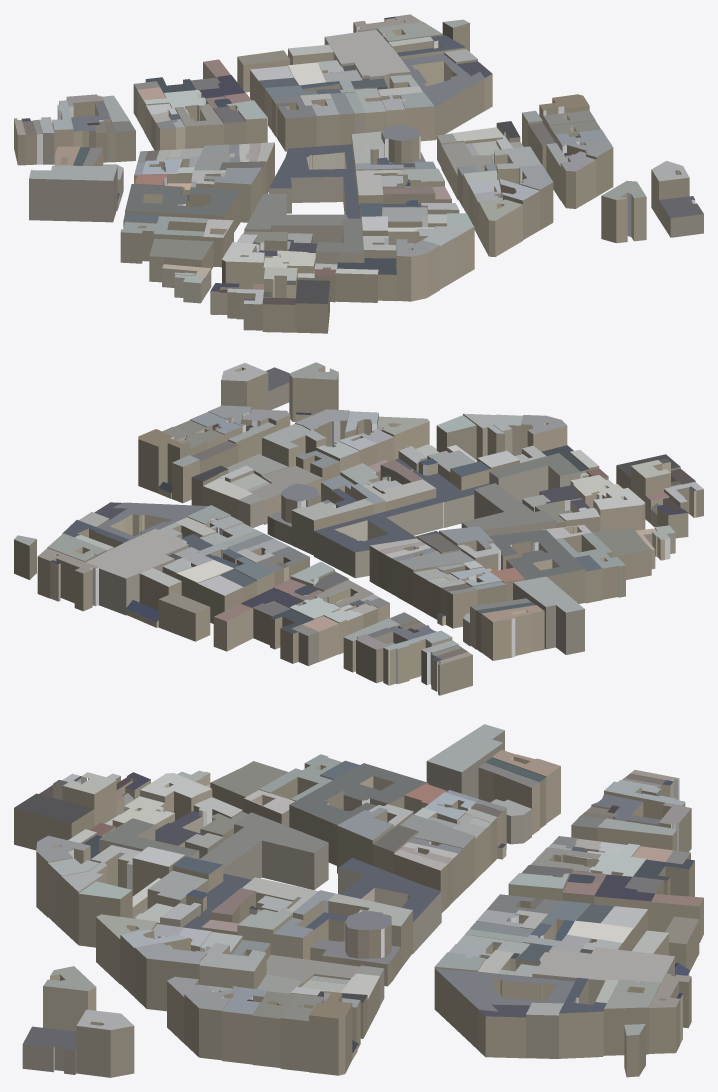
3 renders of one model, top to bottom at view 1: azimuth 30°, elevation 25°; view 2: azimuth 150°, elevation 25°; view 3: azimuth 270°, elevation 25°, orthographic. The views are drawn at different scales.
Parts seen in each view (by area): view 1: tuile; view 2: tuile; view 3: tuile.
Boxes of the visible parts, x1,y1,x2,y2 form: tuile: (14,14,703,333); tuile: (14,362,703,695); tuile: (14,724,703,1077).
Size of the model in its own units: 280 by 26.83 by 267.
